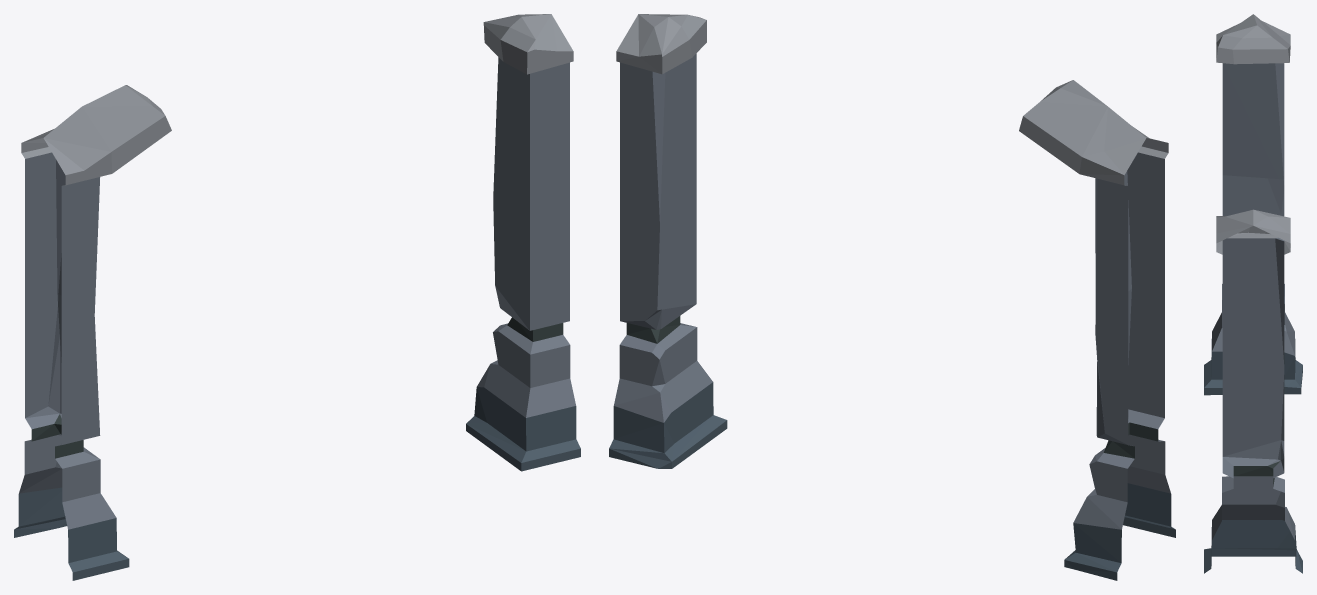
Rendered from Arch_Broken.fbx.
The picture shows the model from 3 angles, left to right: view 1: azimuth 30°, elevation 25°; view 2: azimuth 150°, elevation 25°; view 3: azimuth 270°, elevation 25°; orthographic projection. The views are drawn at different scales.
Visible parts, largest first — view 1: Arch_Broken; view 2: Arch_Broken; view 3: Arch_Broken.
Part boxes in pixels (left/top/right/bottom): Arch_Broken: left=14, top=14, right=580, bottom=580; Arch_Broken: left=609, top=14, right=1175, bottom=580; Arch_Broken: left=1204, top=14, right=1302, bottom=573.
Size of the model in its own units: 600 by 510 by 120.
